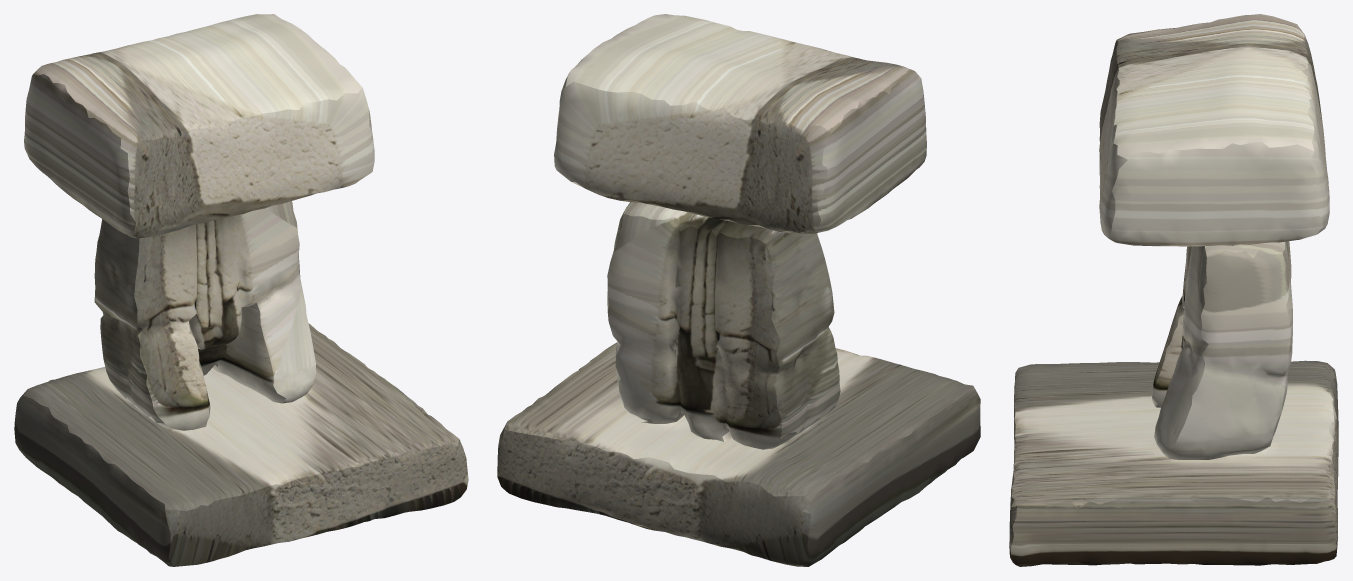
The model's file is inukshuk.glb.
The picture shows the model from 3 angles, left to right: view 1: azimuth 30°, elevation 25°; view 2: azimuth 150°, elevation 25°; view 3: azimuth 270°, elevation 25°; orthographic projection. The views are drawn at different scales.
Visible parts, largest first — view 1: inukshuk; view 2: inukshuk; view 3: inukshuk.
Boxes of the visible parts, x1=… form: inukshuk: x1=14, y1=14, x2=468, y2=566; inukshuk: x1=497, y1=14, x2=980, y2=566; inukshuk: x1=1009, y1=14, x2=1338, y2=566.
Bounding box in the file's own units: 2.29 × 3 × 2.15.
1 material, 1 textured.
